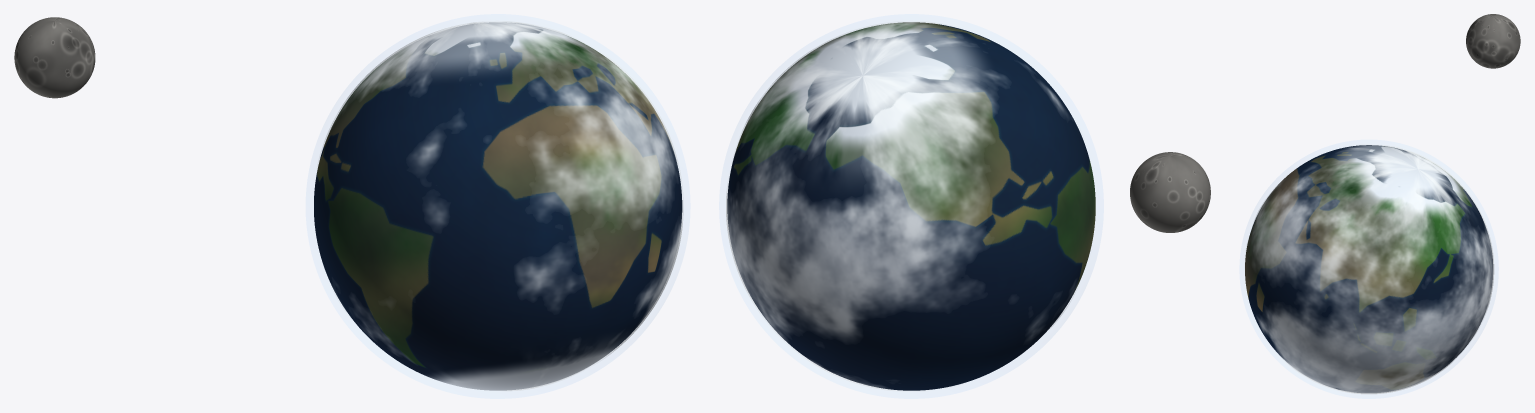
The model's file is pale_blue_dot.glb.
The picture shows the model from 3 angles, left to right: view 1: azimuth 30°, elevation 25°; view 2: azimuth 150°, elevation 25°; view 3: azimuth 270°, elevation 25°; orthographic projection. The views are drawn at different scales.
Parts seen in each view (by area): view 1: Earth, Clouds, Moon; view 2: Earth, Clouds, Moon; view 3: Earth, Clouds, Moon.
Part boxes in pixels (x1,y1,x2,y2): Earth: (314,22,682,390); Clouds: (317,21,683,391); Moon: (14,17,95,98); Earth: (727,22,1095,390); Clouds: (726,21,1083,391); Moon: (1130,152,1210,232); Earth: (1245,145,1493,392); Clouds: (1244,145,1494,394); Moon: (1466,14,1520,68).
Bounding box in the file's own units: 3.46 × 2.26 × 2.26.
4 materials, 3 textured.
